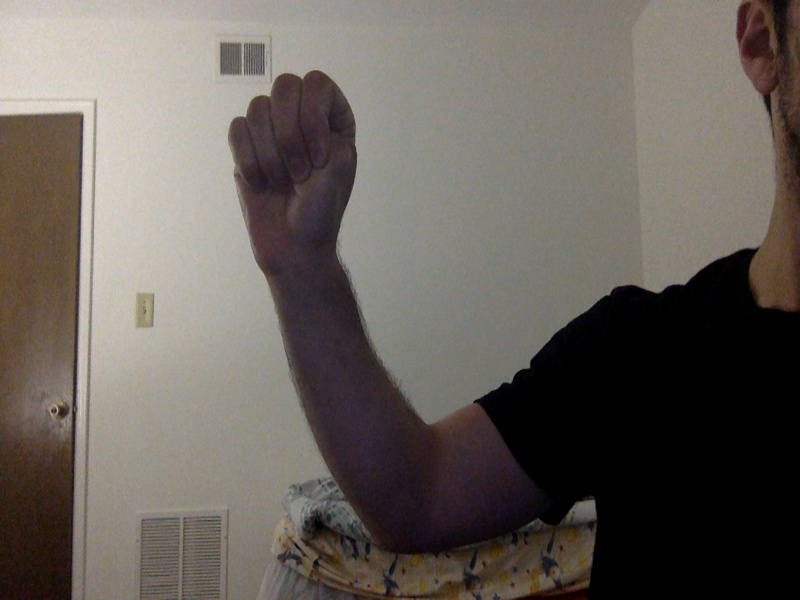0-hand: (223, 71, 360, 274)
